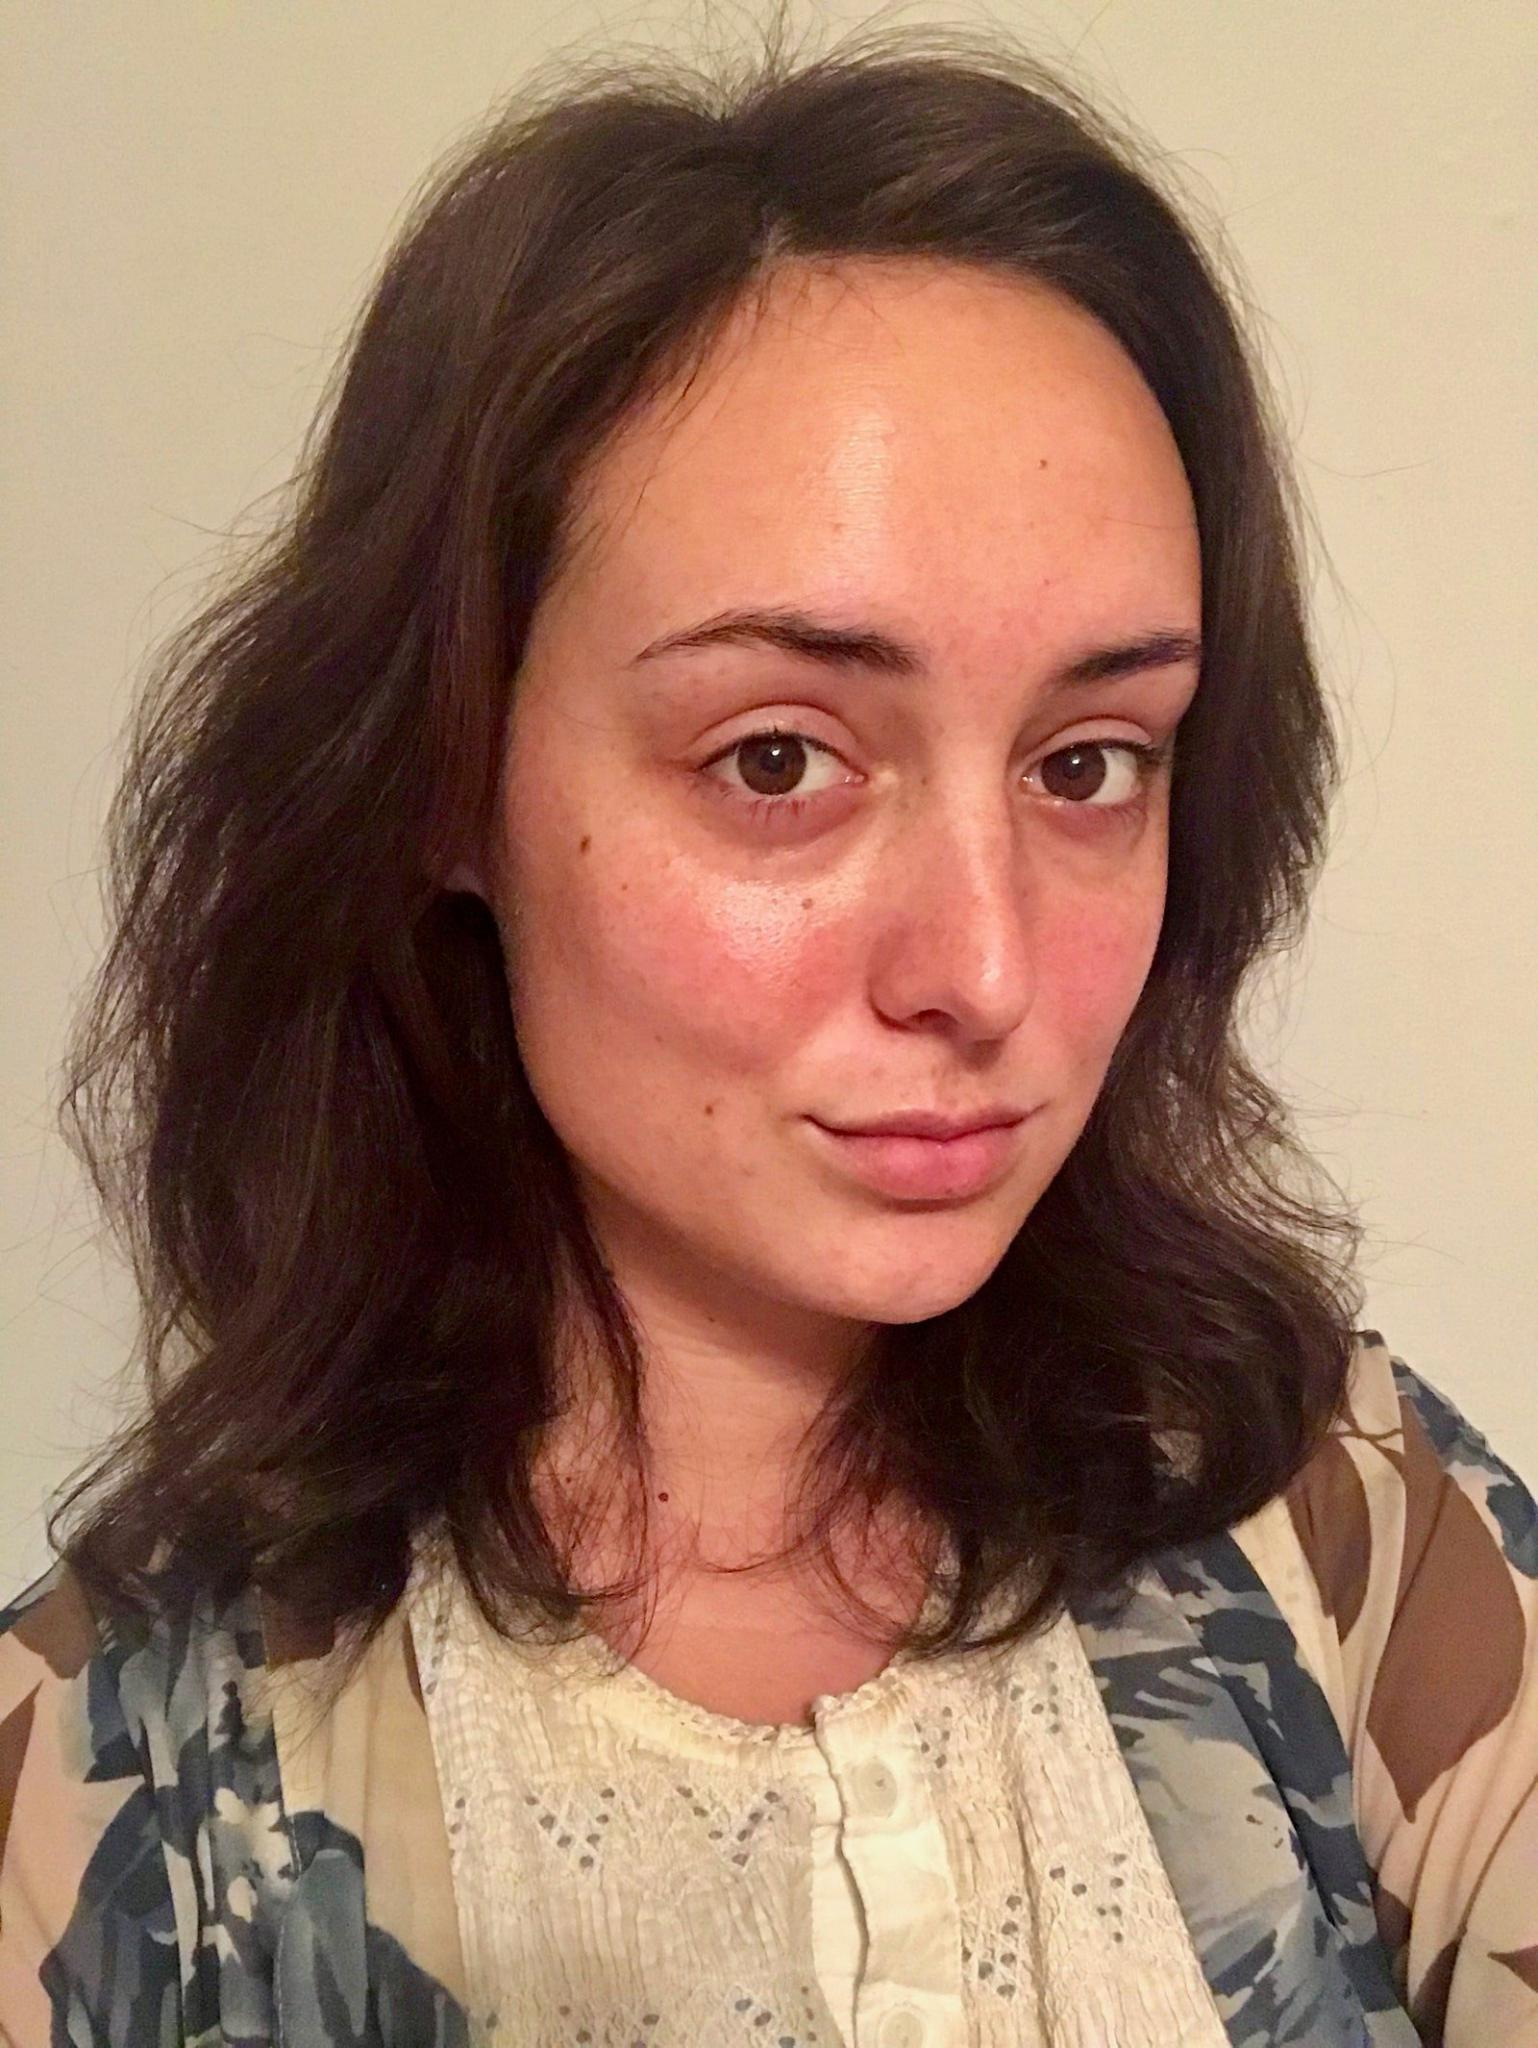Drunk: (612, 336, 1192, 1294)
